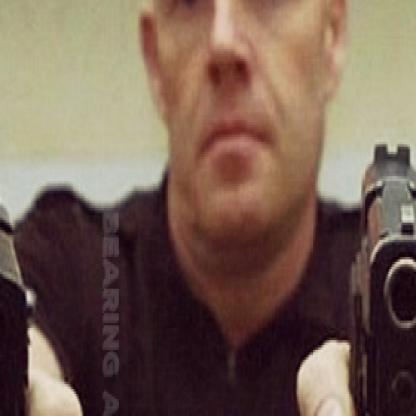gun: (342, 118, 414, 414), (0, 166, 40, 414)
